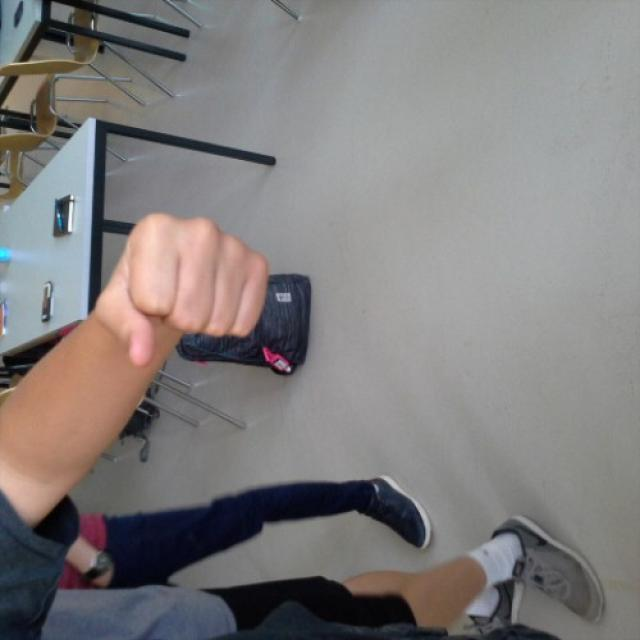fist: (85, 204, 280, 372)
